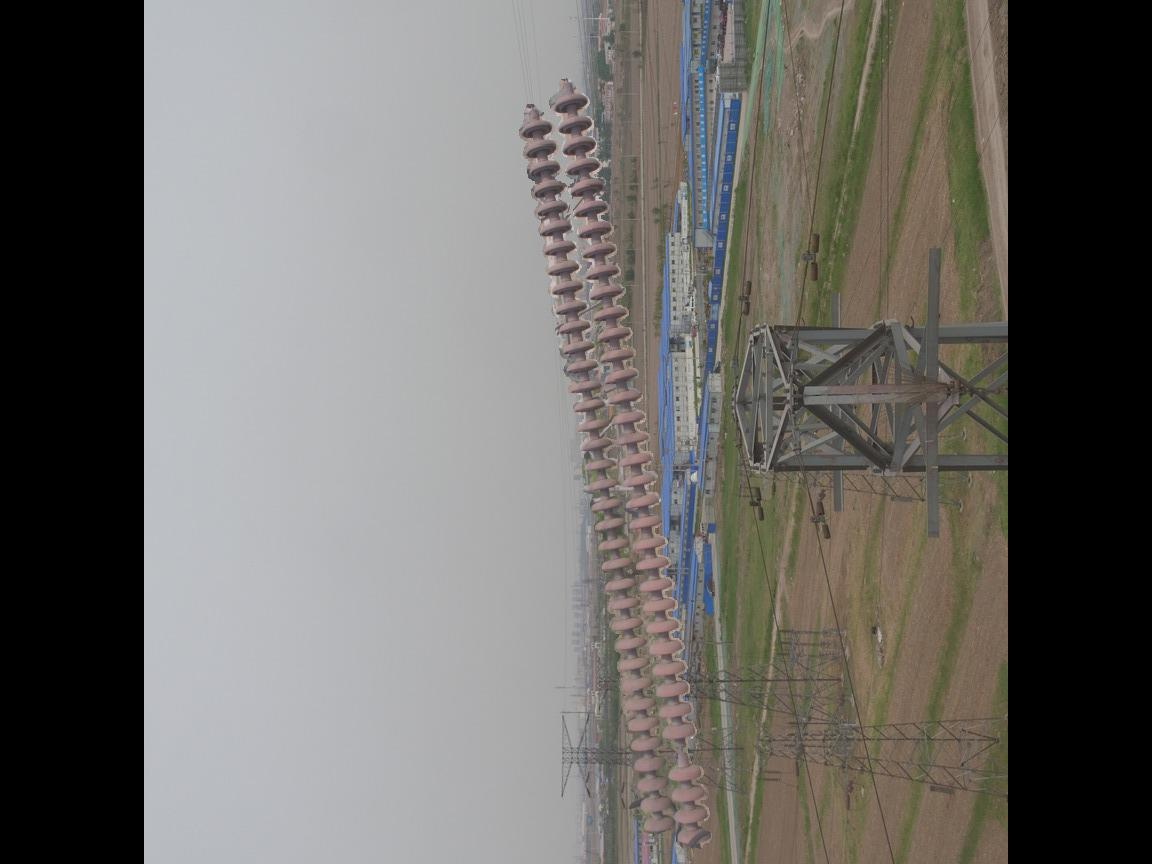insulator: (511, 83, 723, 855)
insulator_stringdrop: (660, 719, 706, 787)
